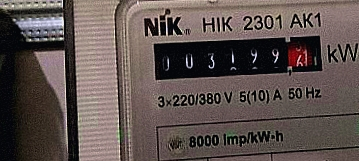0: (182, 51, 194, 70), (159, 53, 169, 71)
1: (226, 47, 236, 65)
3: (204, 50, 215, 71)
6: (292, 52, 303, 67)
9: (247, 45, 258, 65), (269, 46, 280, 64)
screen: (145, 26, 328, 87)
